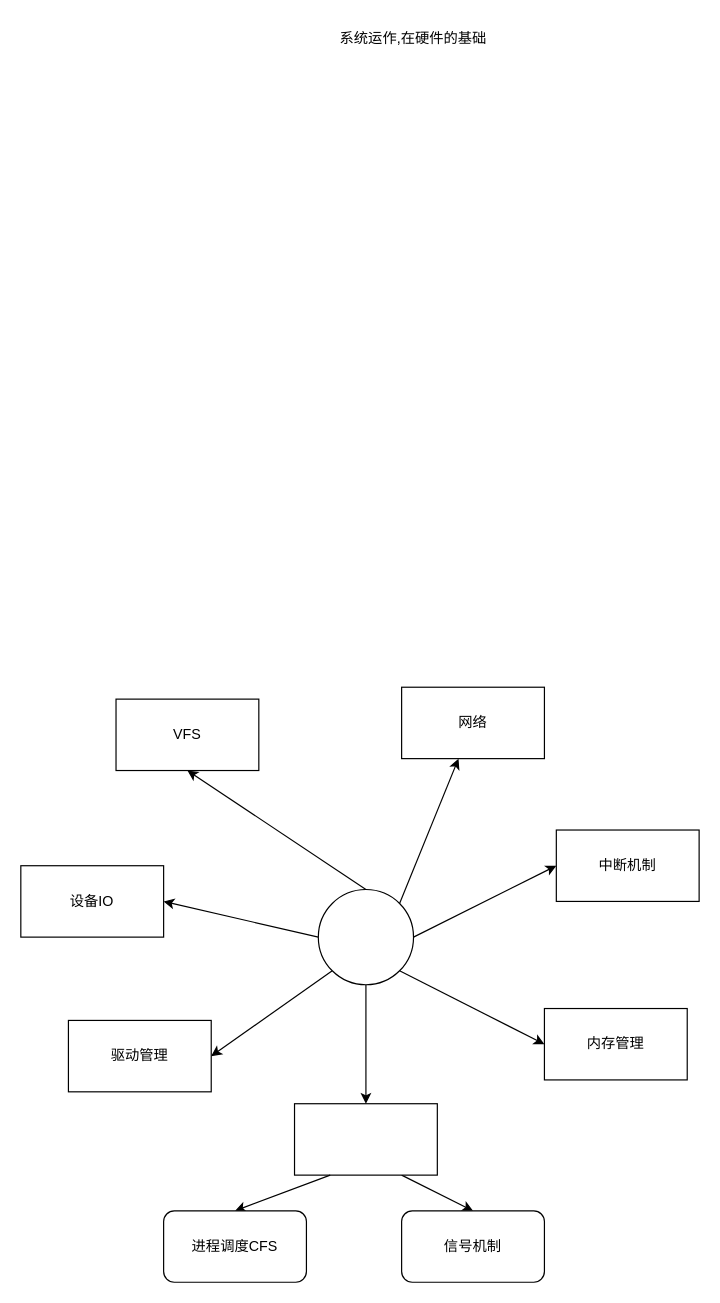
Image size: 720x1303. Some labels were removed from this diagram. The shapes that lost their labels are listed below. From the top down, each one's centre as x and y in pixels, then its label:
At [365,936]: "Linux内核".
At [365,1139]: "进程管理".
